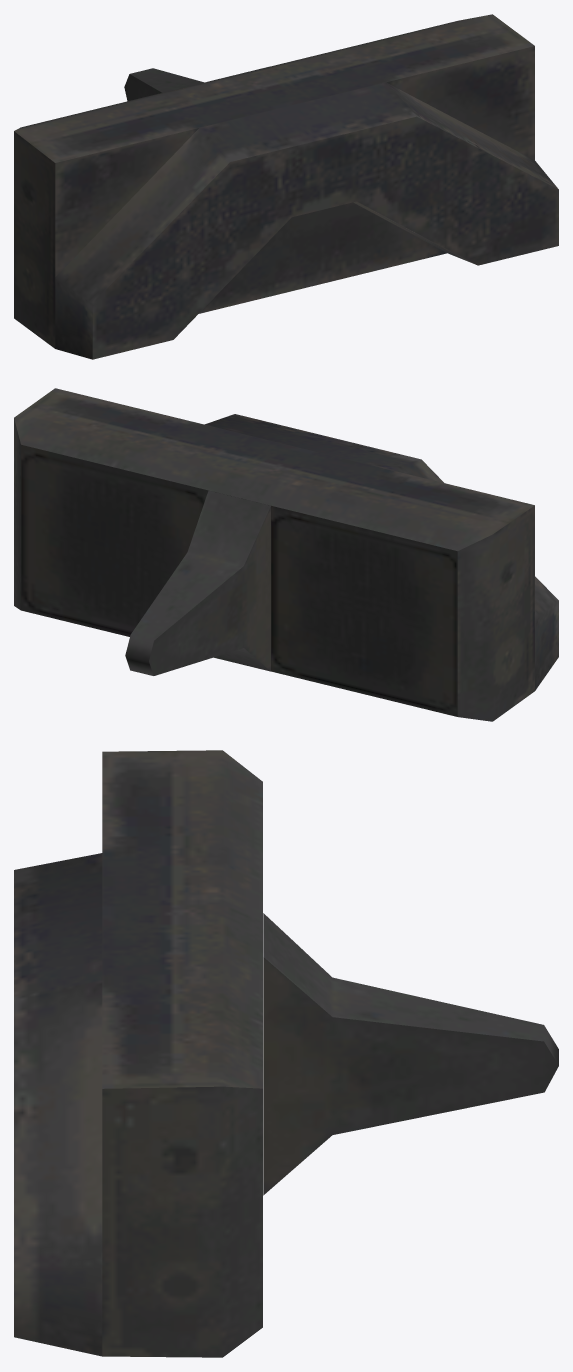
3 renders of one model, top to bottom at view 1: azimuth 30°, elevation 25°; view 2: azimuth 150°, elevation 25°; view 3: azimuth 270°, elevation 25°, orthographic. The views are drawn at different scales.
Parts seen in each view (by area): view 1: set_0_group_0; view 2: set_0_group_0; view 3: set_0_group_0.
Part boxes in pixels (left/top/right/bottom): set_0_group_0: left=14, top=14, right=558, bottom=359; set_0_group_0: left=14, top=388, right=558, bottom=721; set_0_group_0: left=14, top=750, right=558, bottom=1357.
Size of the model in its own units: 0.3127 by 0.1172 by 0.2136.
Materials: 1 (1 with a texture image).
